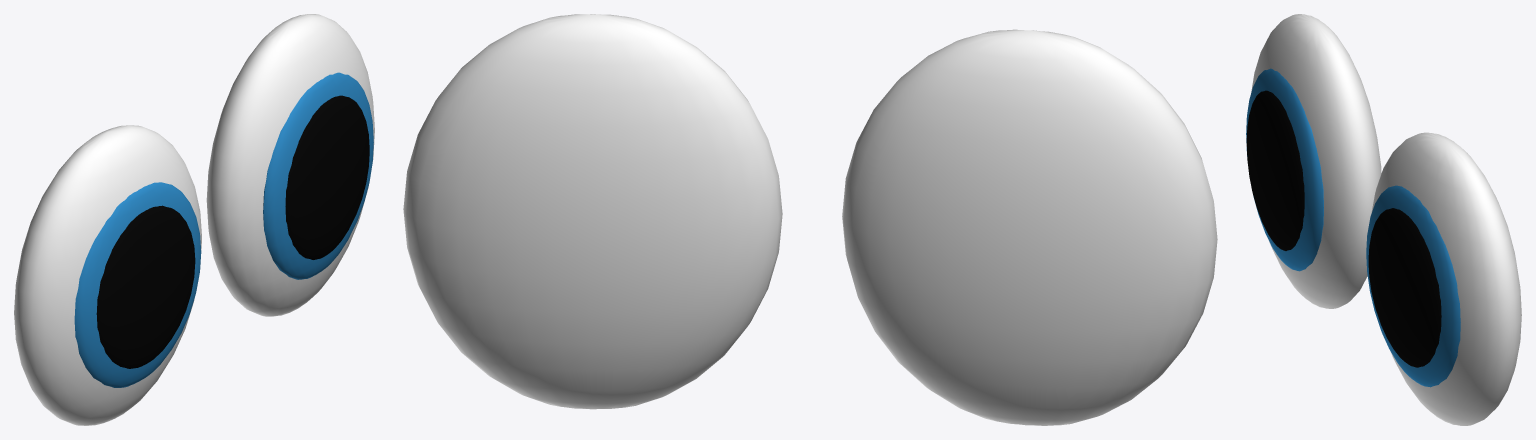
3 renders of one model, left to right at view 1: azimuth 30°, elevation 25°; view 2: azimuth 150°, elevation 25°; view 3: azimuth 270°, elevation 25°, orthographic. The views are drawn at different scales.
Parts seen in each view (by area): view 1: Sphere; view 2: Sphere; view 3: Sphere.
Boxes of the visible parts, <box> form: Sphere: <box>14,14,374,425</box>; Sphere: <box>403,14,1217,425</box>; Sphere: <box>1246,14,1521,425</box>.
Bounding box in the file's own units: 67.64 × 35.66 × 39.53.
